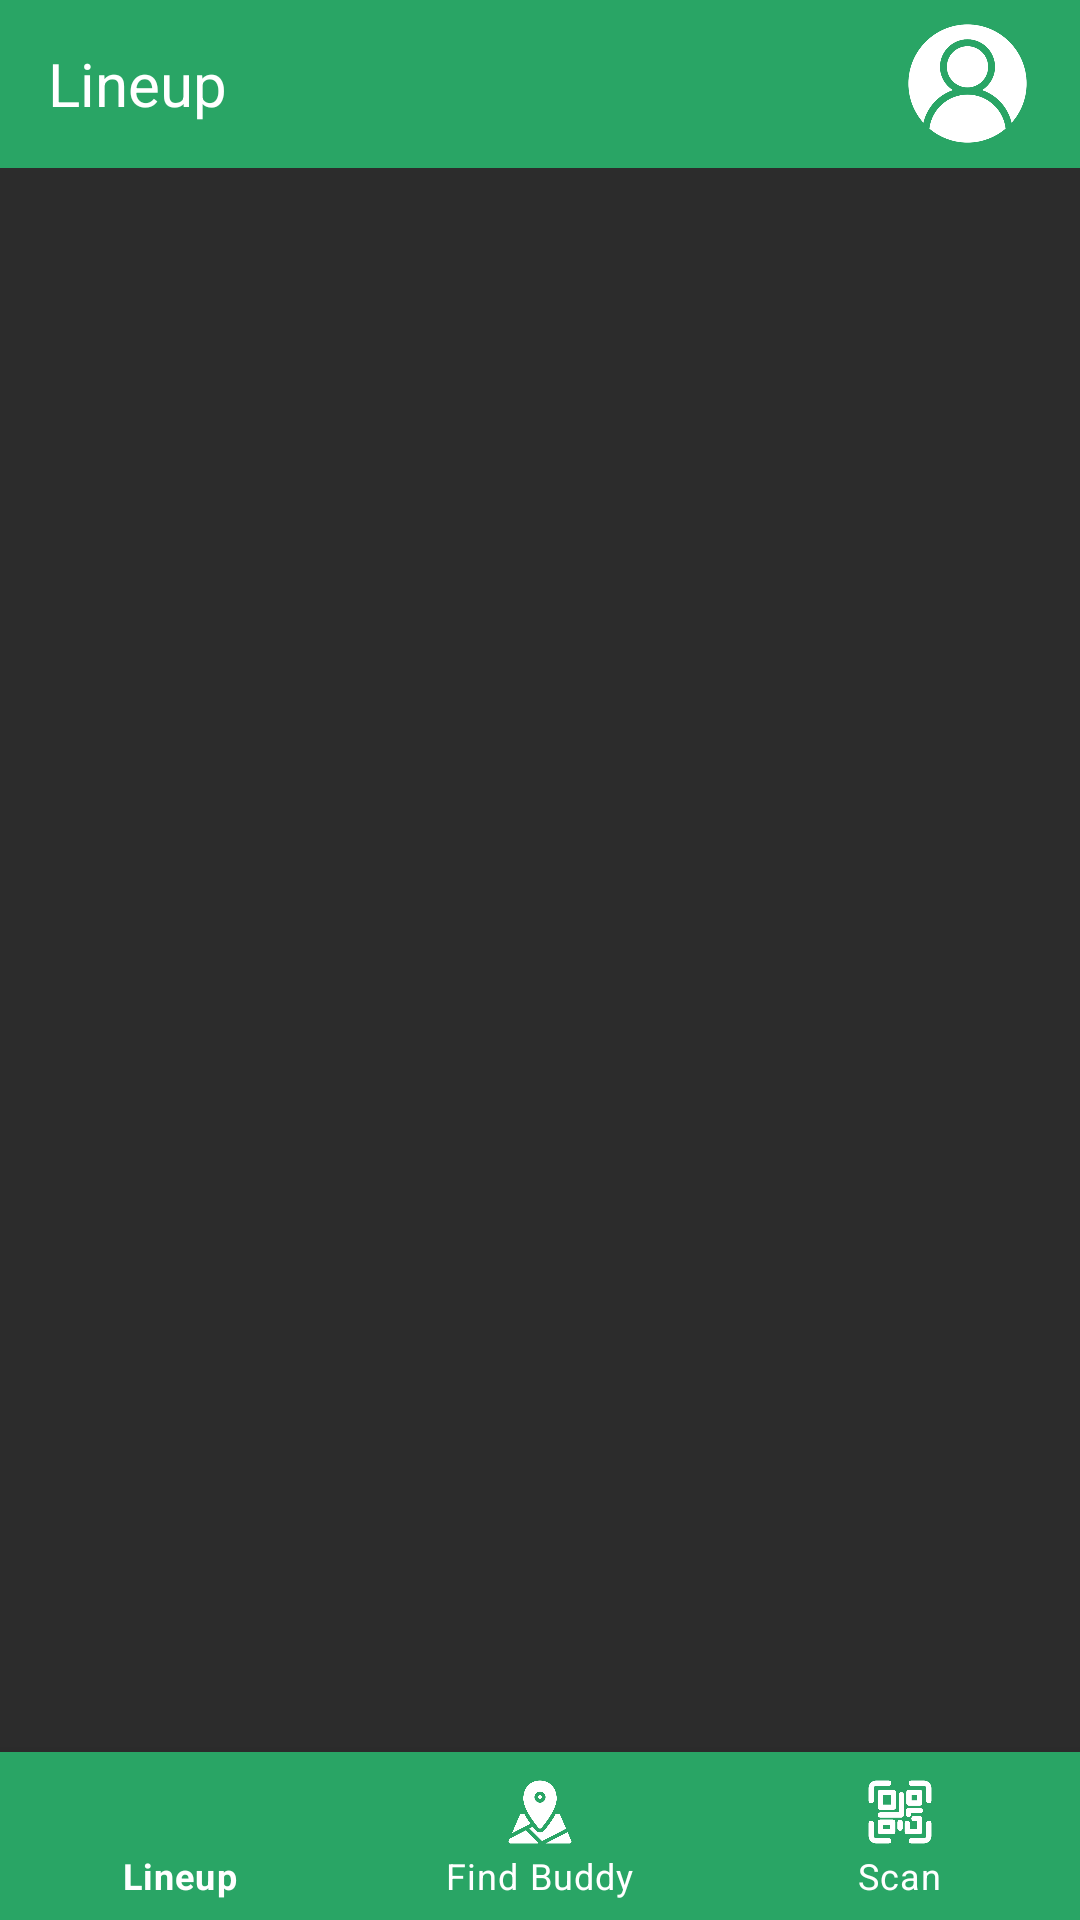

Named icons in this screenshot (1080 × 1920) and their bounding boxes, (x1, y1, x2, y2):
user: (908, 24, 1027, 143)
